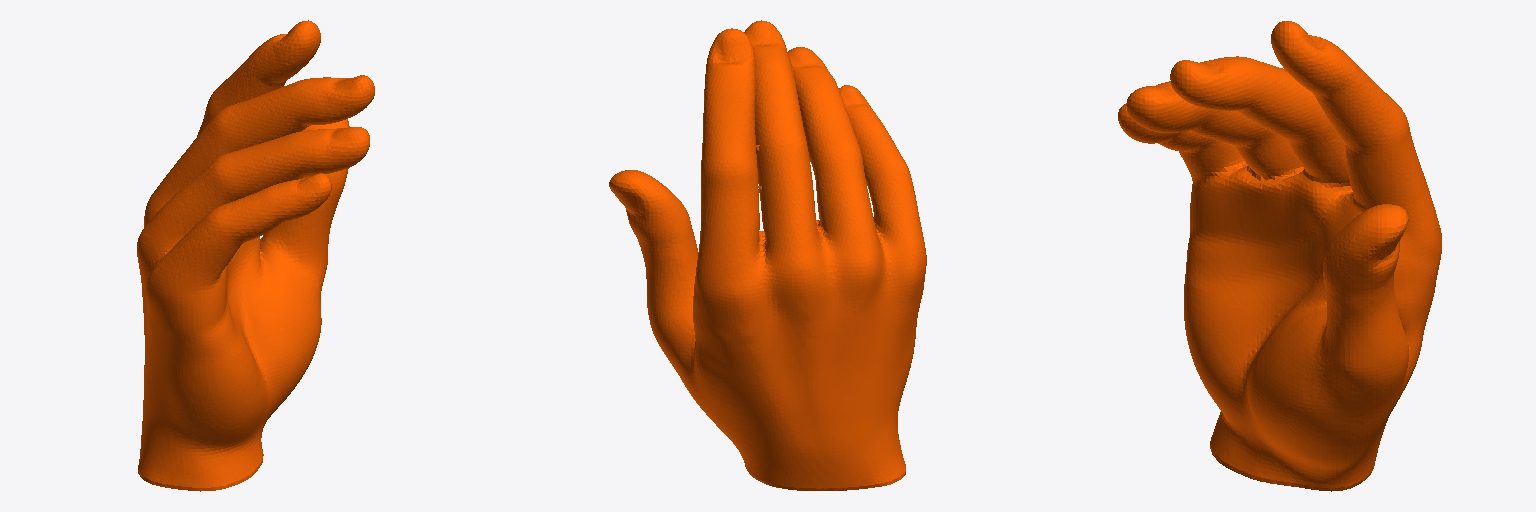
robot.urdf — hand:
<?xml version="1.0" ?>
<robot name="hand">
   <material name="obj_color">
      <color rgba="1.0 0.423529411765 0.0392156862745 1.0"/>
   </material>
   <link name="top">
      <inertial>
         <origin rpy="0.0002135936239987571 0.0004761264995646879 0.0005710921792105306" xyz="-0.008429849928689693 0.007617438821643991 -0.01403381288599364"/>
         <mass value="0.4090586073073407"/>
         <inertia ixx="0.0005057551276630988" ixy="-4.422085217460923e-05" ixz="-5.677019557678223e-05" iyy="0.0005300890607625087" iyz="1.890721078414246e-05" izz="0.0002249681143483681"/>
      </inertial>
      <visual>
         <origin rpy="0 0 0" xyz="0 0 0"/>
         <geometry>
            <mesh filename="top_watertight_tiny.stl" scale="1 1 1"/>
         </geometry>
         <material name="obj_color"/>
      </visual>
      <collision>
         <origin rpy="0 0 0" xyz="0 0 0"/>
         <geometry>
            <mesh filename="top_watertight_tiny.obj" scale="1 1 1"/>
         </geometry>
      </collision>
   </link>
   <link name="bottom">
      <inertial>
         <origin rpy="1.633333333194242e-08 1.633333333194243e-08 1.633333333357667e-08" xyz="0.3464080000000008 0.3464080000000008 0.3464080000000008"/>
         <mass value="0.0009800000000000017"/>
         <inertia ixx="1.633333333248717e-08" ixy="5.447480642029219e-19" ixz="5.447480642029219e-19" iyy="1.633333333248717e-08" iyz="5.447480642029219e-19" izz="1.633333333248717e-08"/>
      </inertial>
      <visual>
         <origin rpy="0 0 0" xyz="0 0 0"/>
         <geometry>
            <mesh filename="bottom_watertight_tiny.stl" scale="1 1 1"/>
         </geometry>
         <material name="obj_color"/>
      </visual>
   </link>
   <joint name="rotation" type="revolute">
      <origin xyz="0 0 0"/>
      <axis xyz="0 0 -1"/>
      <parent link="bottom"/>
      <child link="top"/>
      <dynamics damping="1.0" friction="1.0"/>
      <limit effort="0.1" velocity="0.1" lower="0" upper="0.001"/>
   </joint>
</robot>

--- What the picture shows (computed from the rendered views, not written in the file) ---
The picture shows the robot from 3 angles, left to right: view 1: azimuth 30°, elevation 25°; view 2: azimuth 150°, elevation 25°; view 3: azimuth 270°, elevation 25°; orthographic projection.
Robot: hand — 2 links, 1 joints (1 revolute); root link bottom; default pose: every joint at zero.
Links seen in each view (by area): view 1: top; view 2: top; view 3: top.
Boxes of the visible links, bbox=[...] form: top: bbox=[137, 20, 374, 491]; top: bbox=[609, 20, 926, 490]; top: bbox=[1118, 21, 1441, 491].
Bounding box of the posed robot: 0.0878 × 0.0826 × 0.1379 m (x, y, z).
Meshes: 2 distinct files referenced, 1 mesh visuals loaded (1 binary STL); not drawn: 1 (reference not matched to a file when rendering).
